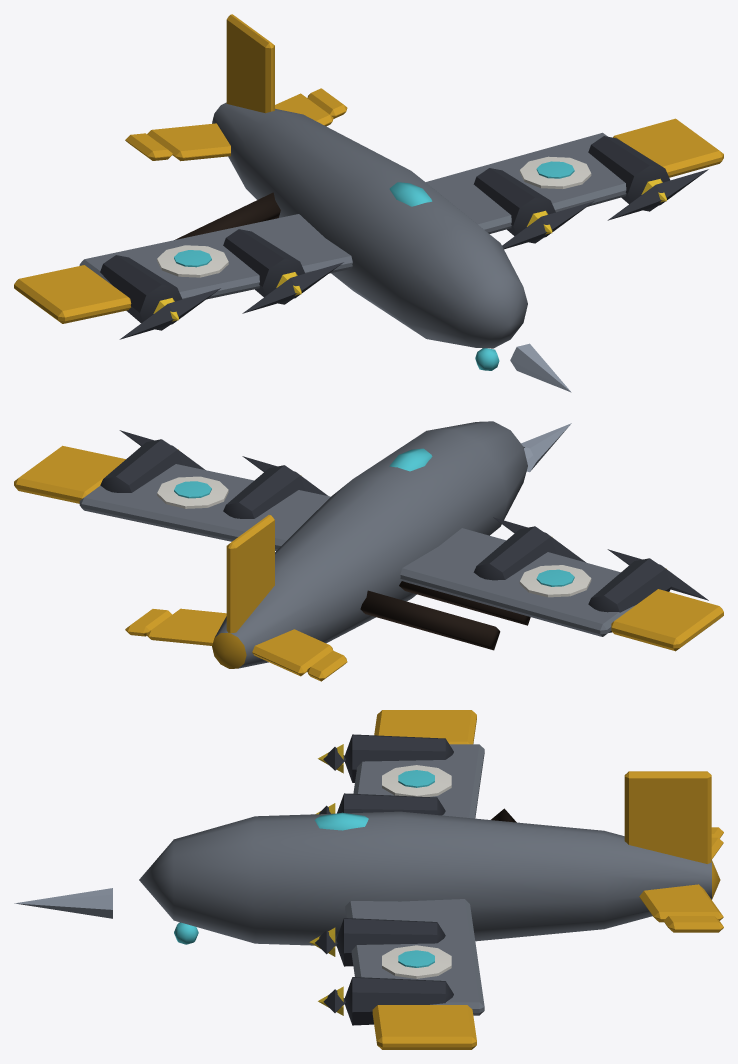
3 views of the same model, one above another, from view 1: azimuth 30°, elevation 25°; view 2: azimuth 150°, elevation 25°; view 3: azimuth 270°, elevation 25° (orthographic).
Visible parts, largest first — view 1: as_0_base, as_1_torreta; view 2: as_0_base, as_1_torreta; view 3: as_0_base, as_1_torreta.
Part boxes in pixels (<box>): as_0_base: <box>14,14,723,392</box>; as_1_torreta: <box>119,169,708,339</box>; as_0_base: <box>14,421,723,681</box>; as_1_torreta: <box>119,430,708,600</box>; as_0_base: <box>14,710,723,1049</box>; as_1_torreta: <box>309,744,345,1015</box>.
Bounding box in the file's own units: 1.82 × 0.4408 × 1.65.
